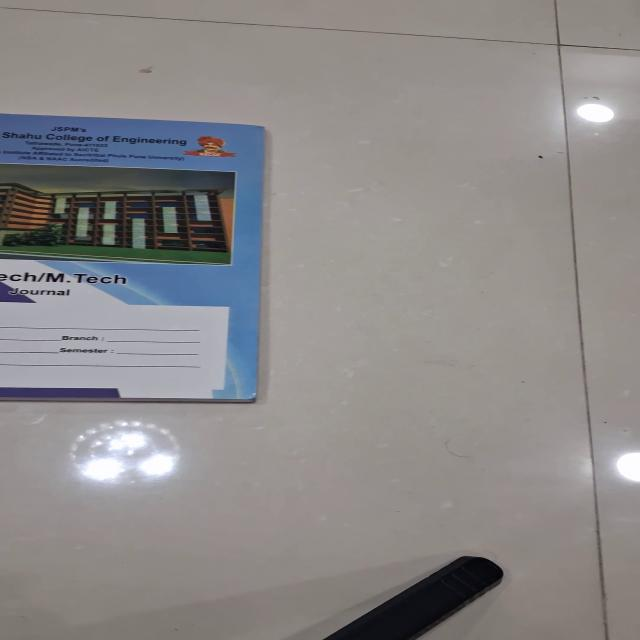paper: (1, 113, 266, 402)
